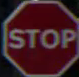Stop: (9, 2, 73, 73)
